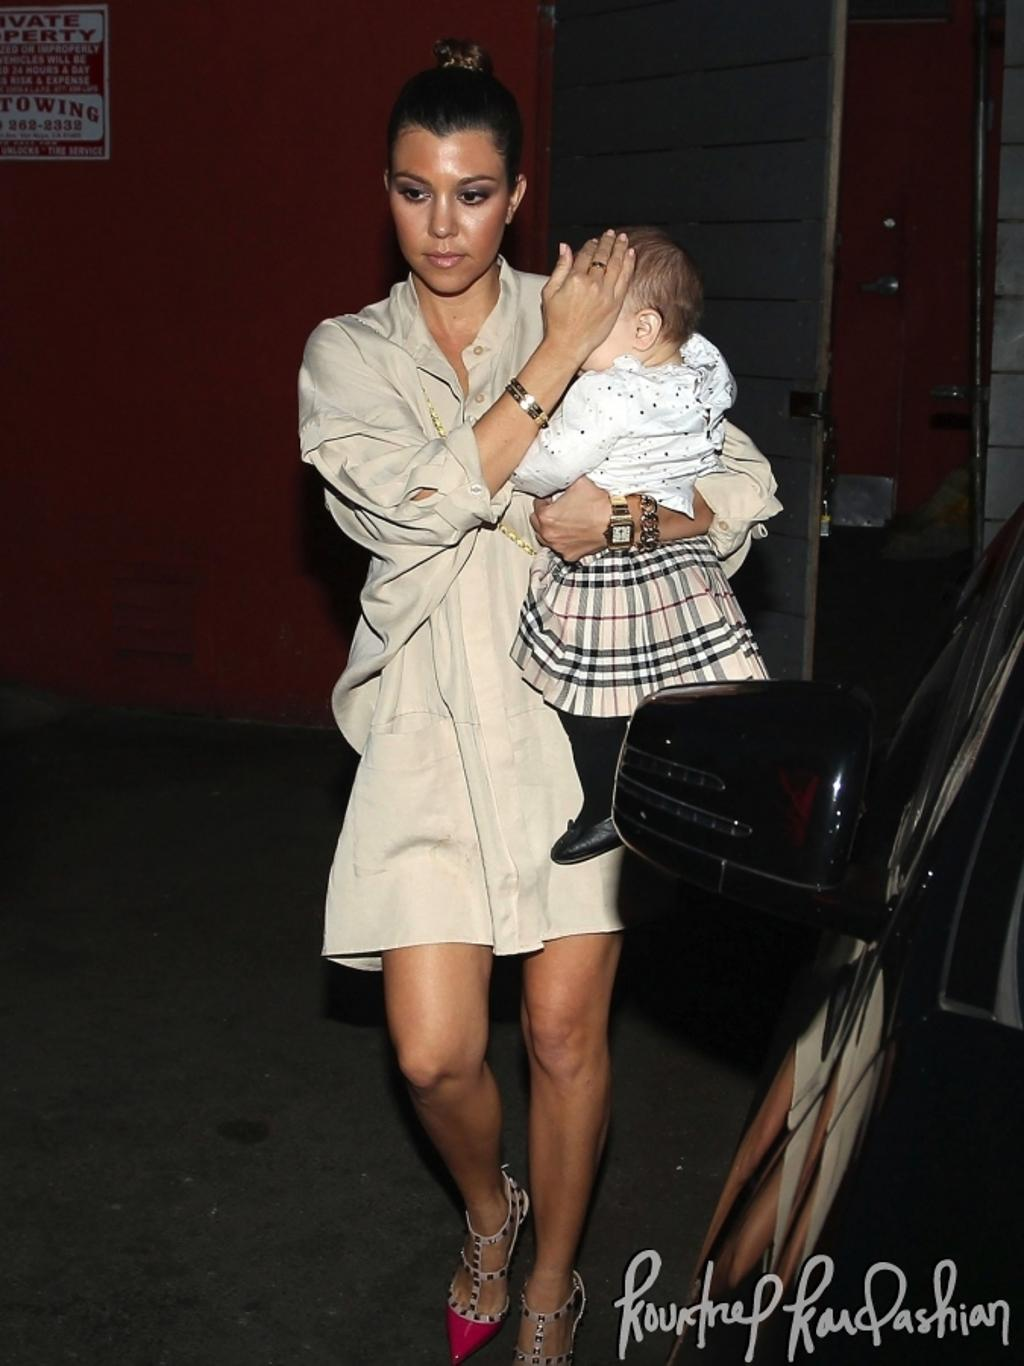face: (392, 109, 509, 293)
